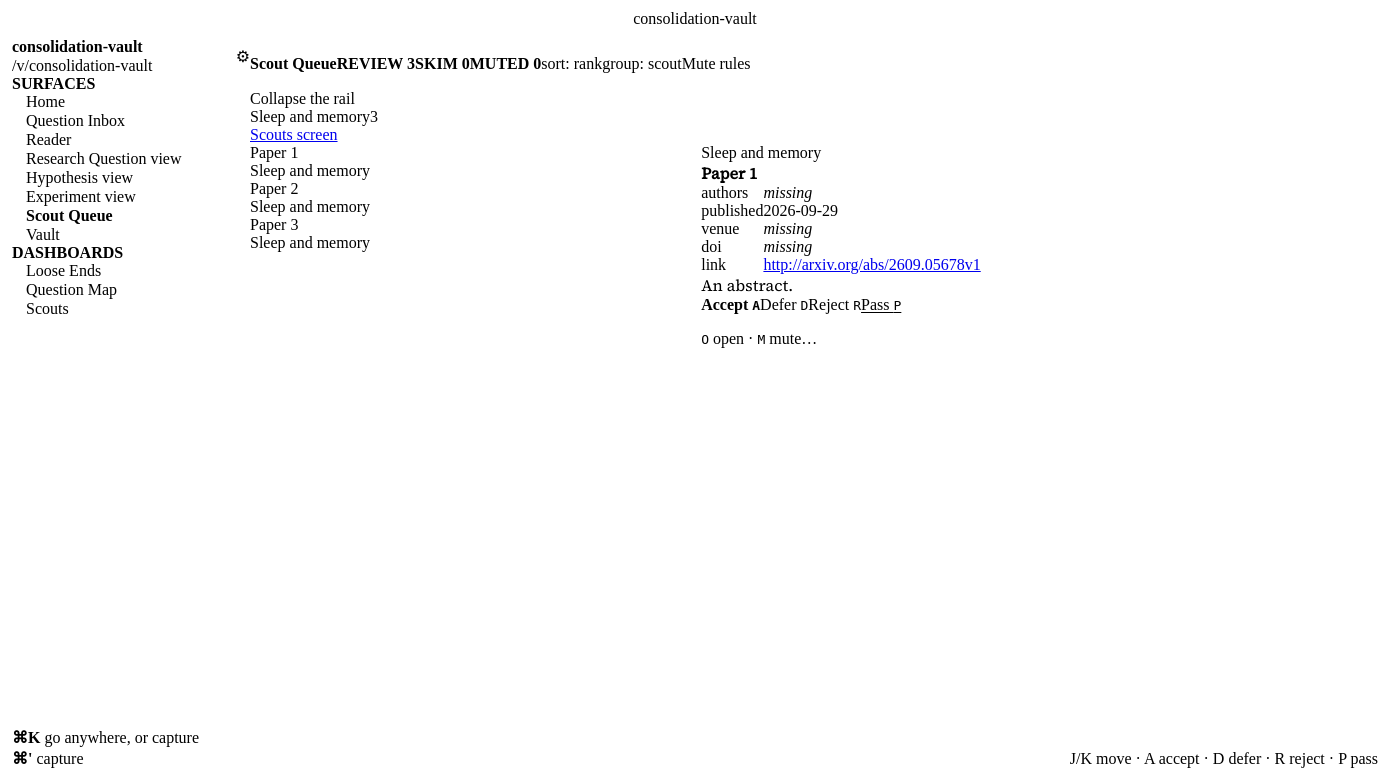
Test: the list and the detail › ignores its keys in a field
Click the button "Mute rules".
click(716, 64)  # box [682,55,751,73]
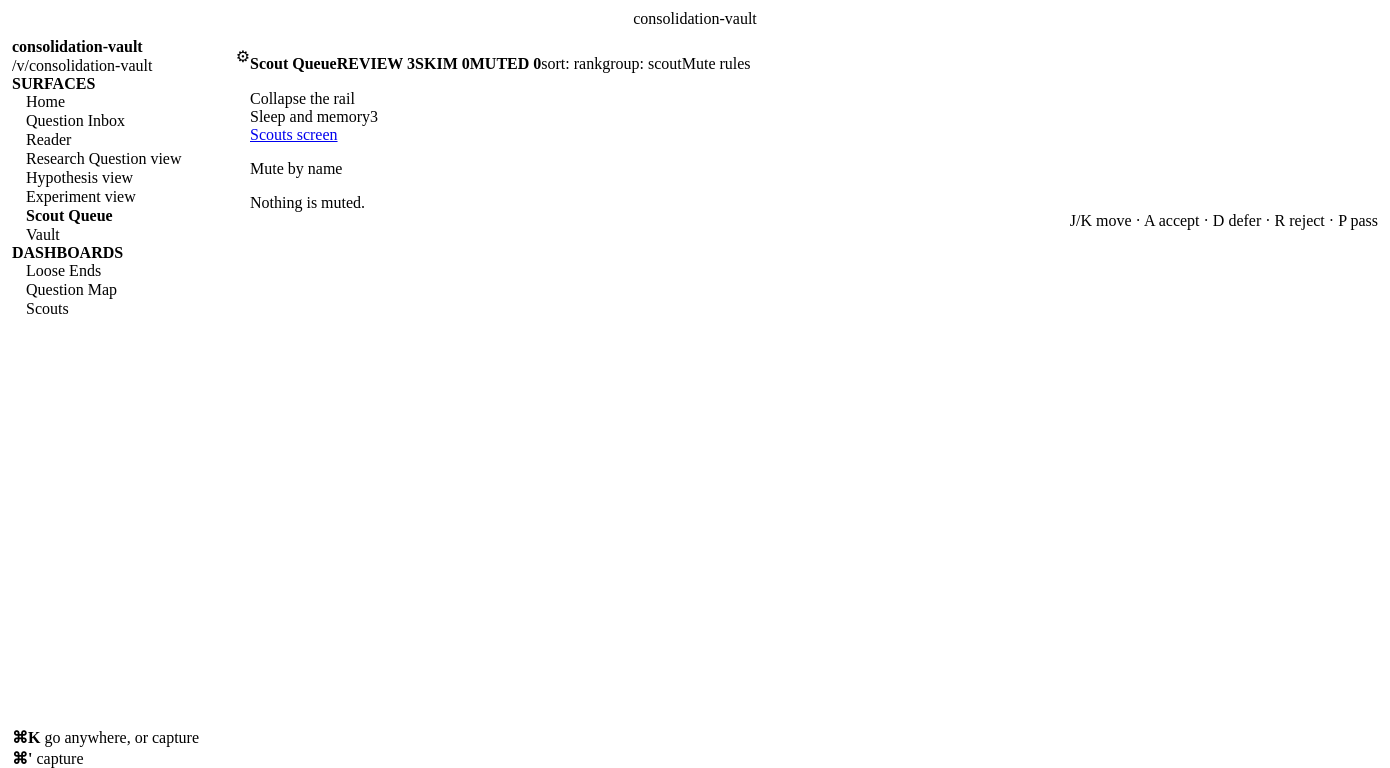
Click the button "Mute by name".
click(296, 169)  # box [250,160,342,178]
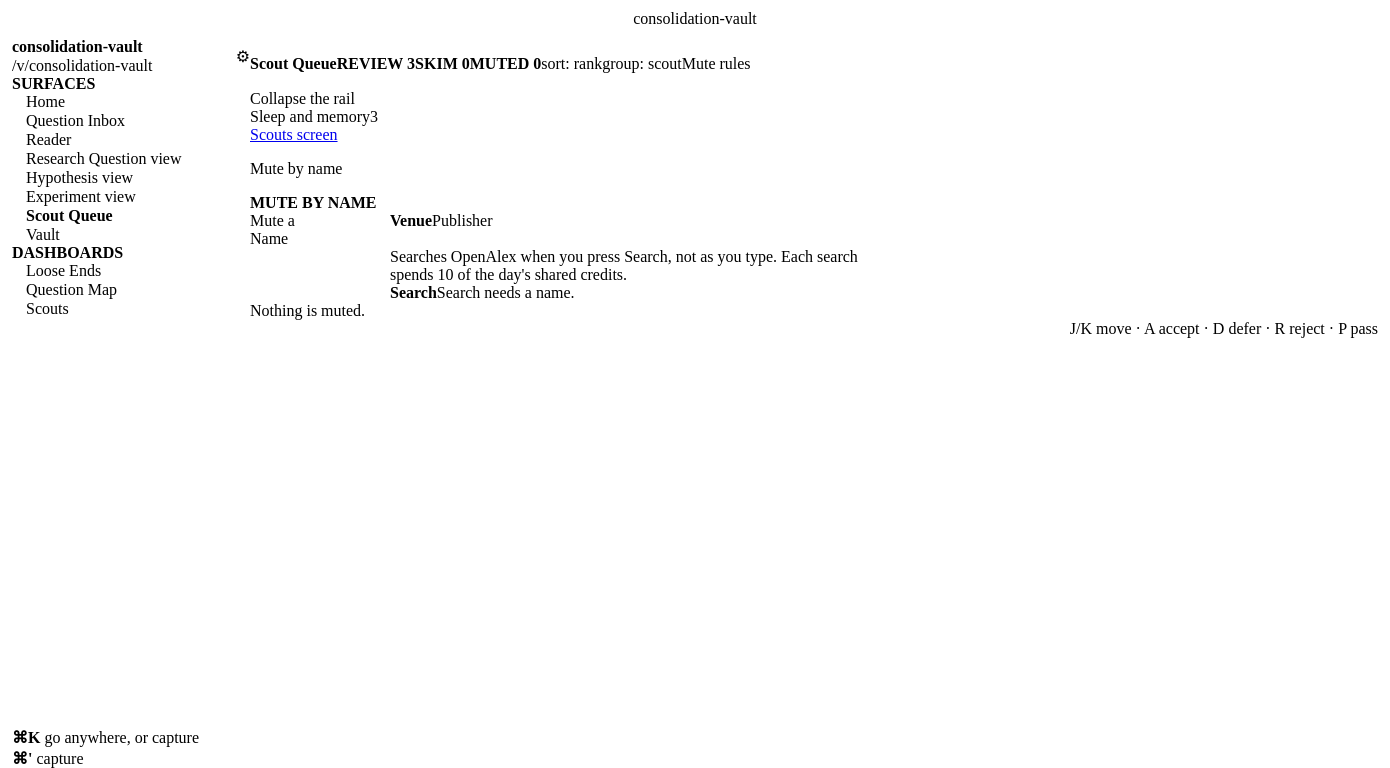
Press j in the field, box [390,230,590,248]
Click the tab "Review 3".
click(376, 64)  # box [337,55,415,73]
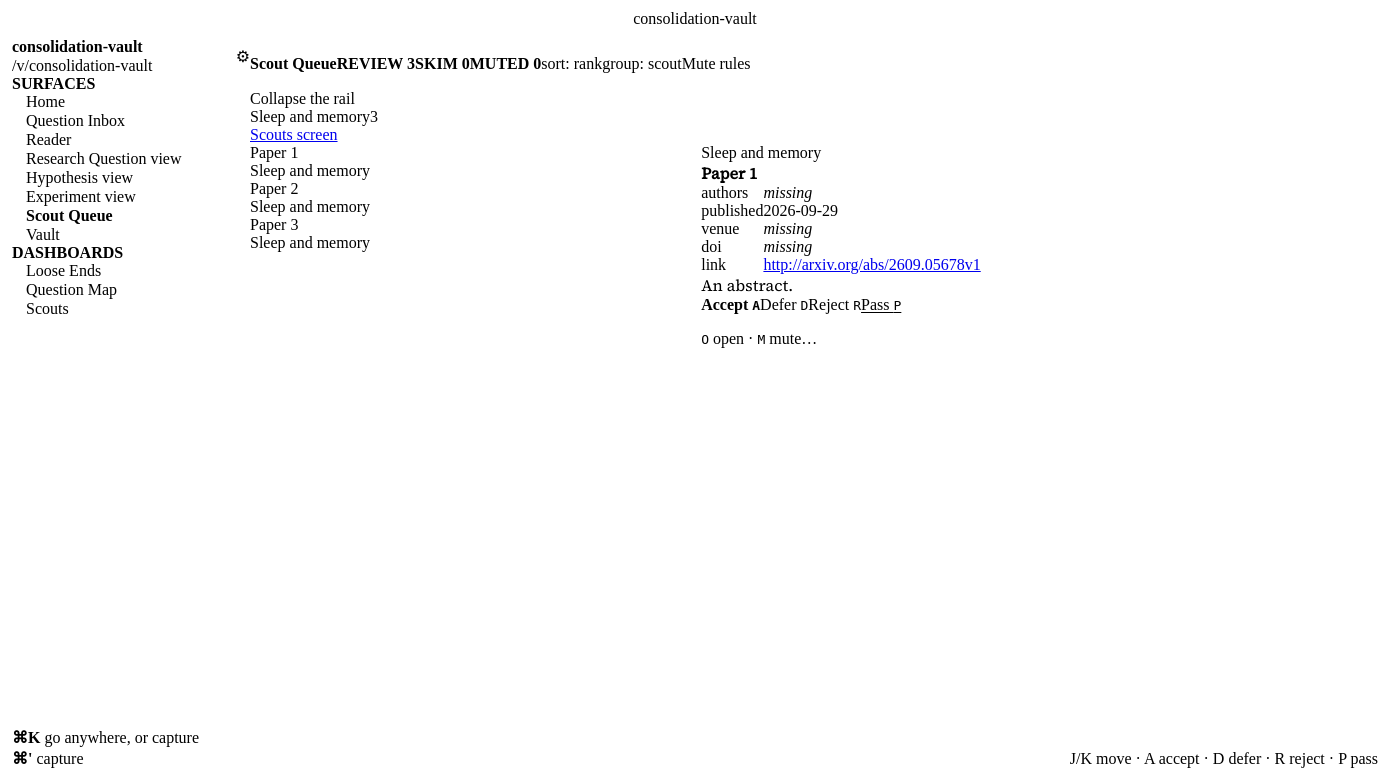
Now the element "Paper 1" is shown, box [701,144,981,347]
